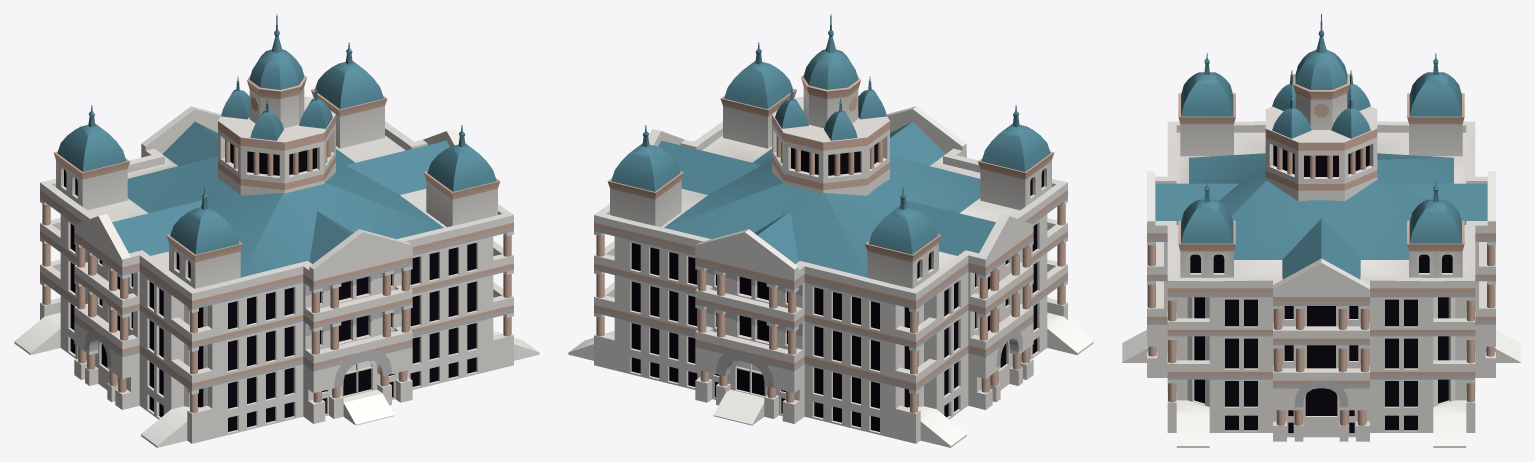
File: DentonCountyCourthouseOnTheSquare.gltf
3 renders of one model, left to right at view 1: azimuth 30°, elevation 25°; view 2: azimuth 150°, elevation 25°; view 3: azimuth 270°, elevation 25°, orthographic.
Visible parts, largest first — view 1: DentonCountyCourthouseOnTheSquare; view 2: DentonCountyCourthouseOnTheSquare; view 3: DentonCountyCourthouseOnTheSquare.
Part boxes in pixels (left/top/right/bottom): DentonCountyCourthouseOnTheSquare: left=14, top=14, right=539, bottom=447; DentonCountyCourthouseOnTheSquare: left=568, top=14, right=1093, bottom=447; DentonCountyCourthouseOnTheSquare: left=1122, top=14, right=1520, bottom=447.
Size of the model in its own units: 32.99 by 27.59 by 29.34.
Materials: 1 (1 with a texture image).
